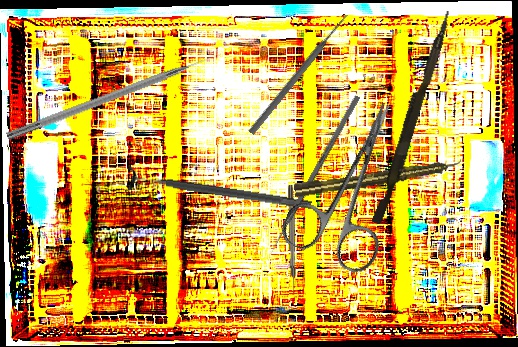Fixation Ring: (124, 165, 314, 220)
Handpiece: (293, 156, 463, 199)
Hook Surgical: (5, 49, 224, 143), (288, 184, 296, 295)
Iris Scissors: (276, 85, 435, 279)
Pusher: (371, 7, 453, 227), (267, 94, 361, 256), (247, 11, 351, 137)
